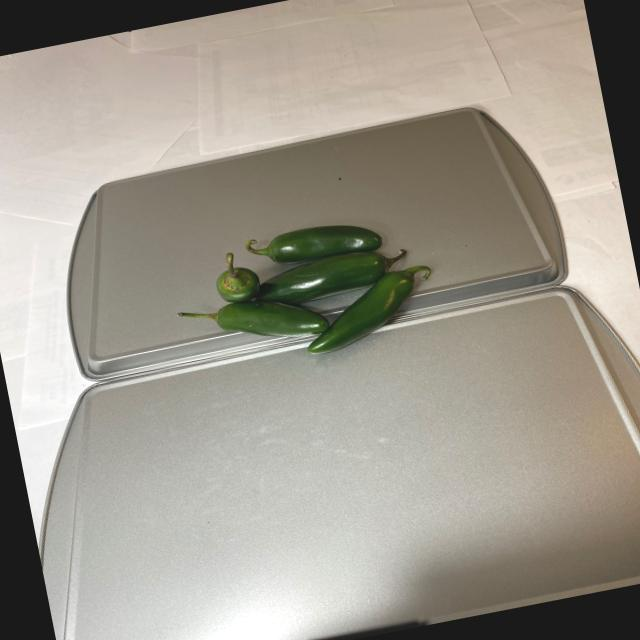chilli: (178, 205, 450, 379)
